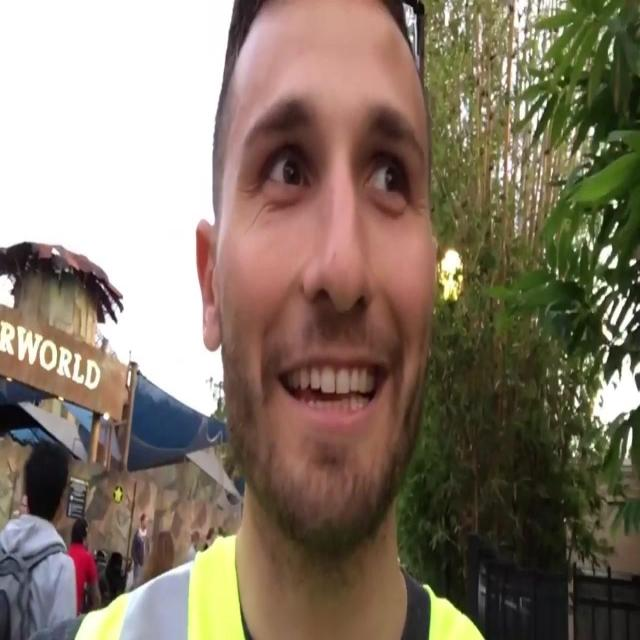Vest: (73, 533, 489, 639)
